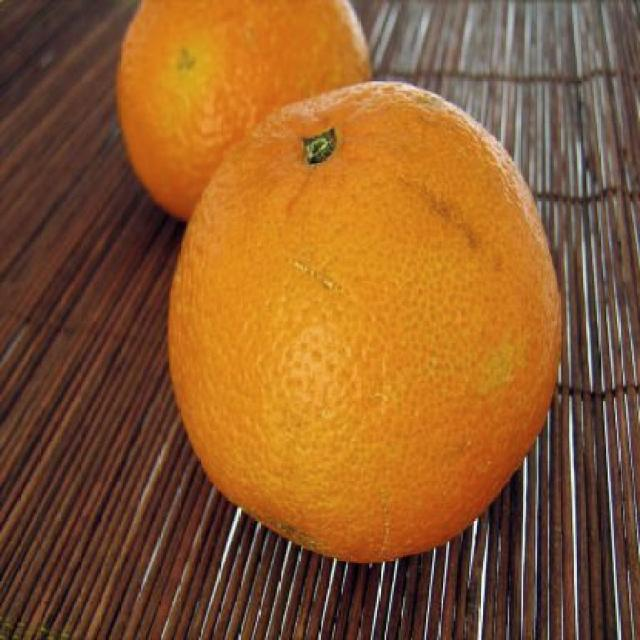Jeruk Sudah Matang: (172, 79, 565, 555), (118, 0, 376, 242)
